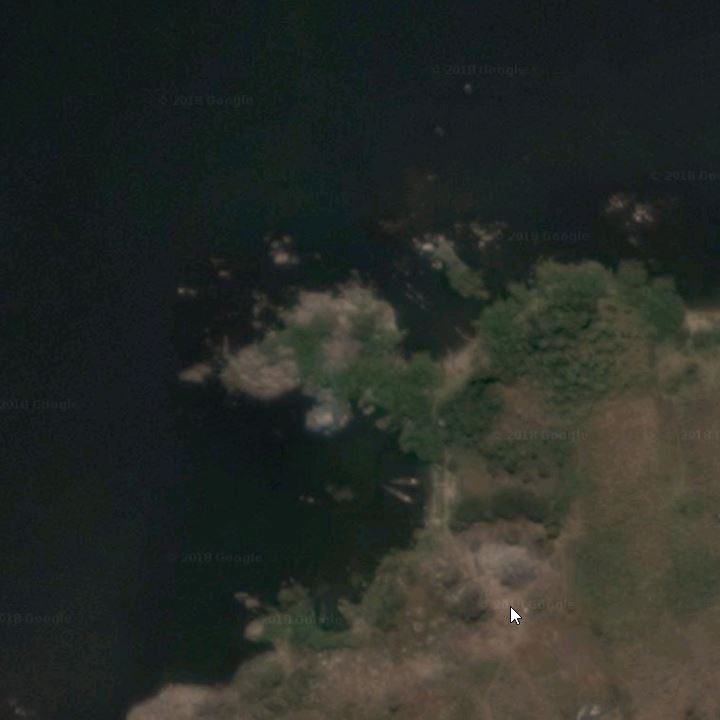boat: (382, 486, 417, 509), (386, 472, 421, 493), (451, 322, 477, 347), (441, 335, 455, 370)
